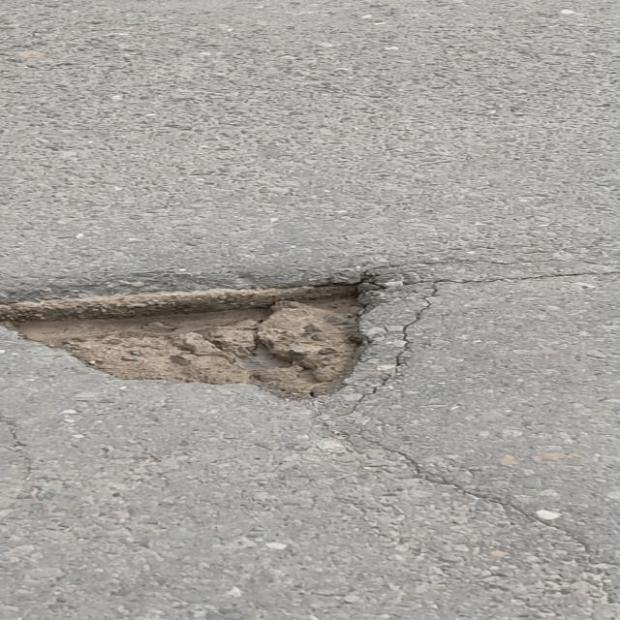lubang: (0, 267, 418, 397)
